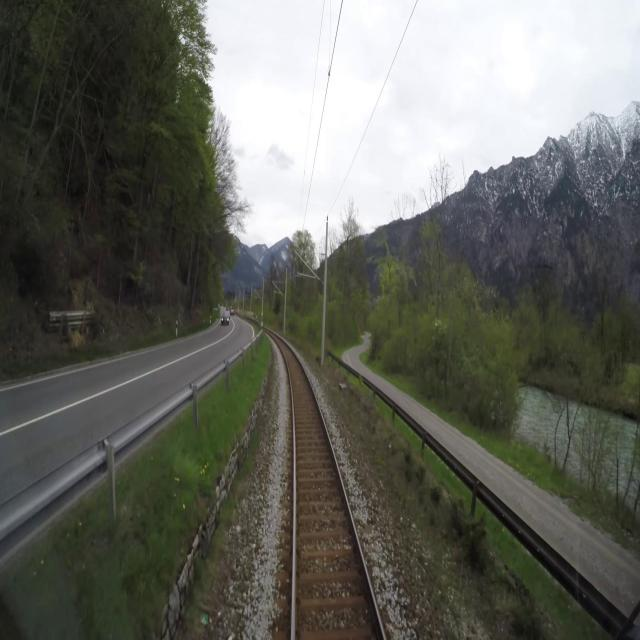rail-track: (277, 339, 382, 639)
